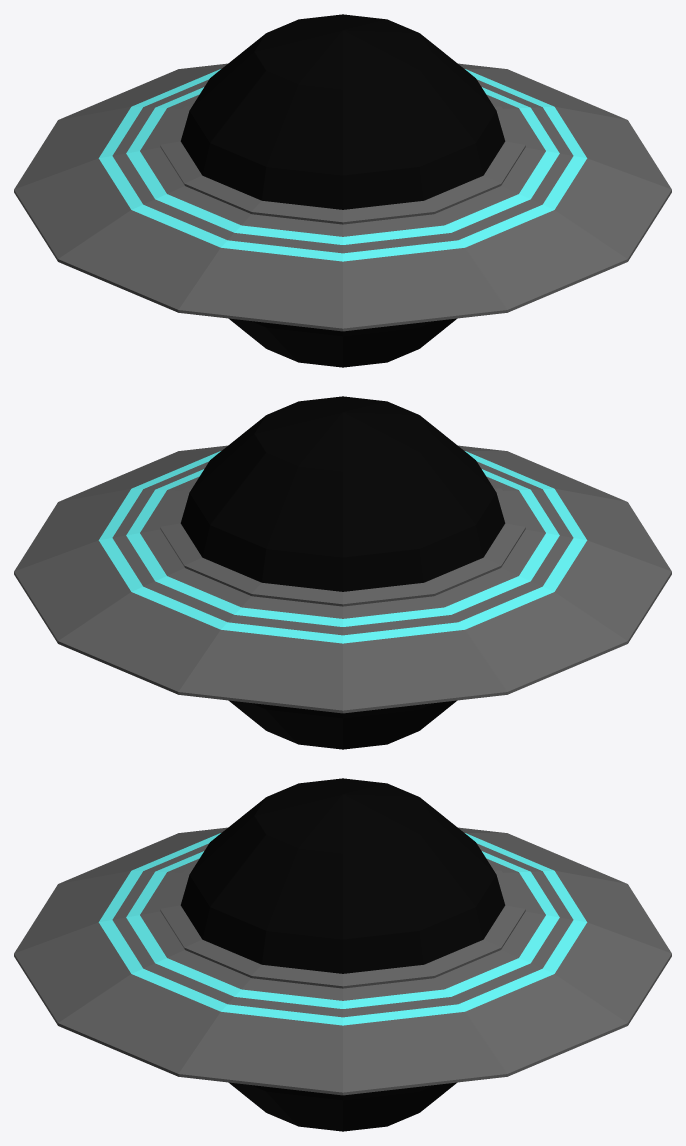
The model's file is W_O_Playground_SpaceSymbolic_spaceship_001_L0.fbx.
3 renders of one model, top to bottom at view 1: azimuth 30°, elevation 25°; view 2: azimuth 150°, elevation 25°; view 3: azimuth 270°, elevation 25°, orthographic.
Parts seen in each view (by area): view 1: W_O_Playground_SpaceSymbolic_spaceship_001_L0; view 2: W_O_Playground_SpaceSymbolic_spaceship_001_L0; view 3: W_O_Playground_SpaceSymbolic_spaceship_001_L0.
Part boxes in pixels (<box>): W_O_Playground_SpaceSymbolic_spaceship_001_L0: <box>14,14,671,367</box>; W_O_Playground_SpaceSymbolic_spaceship_001_L0: <box>14,396,671,749</box>; W_O_Playground_SpaceSymbolic_spaceship_001_L0: <box>14,778,671,1131</box>.
Size of the model in its own units: 0.6822 by 0.3676 by 0.6822.
